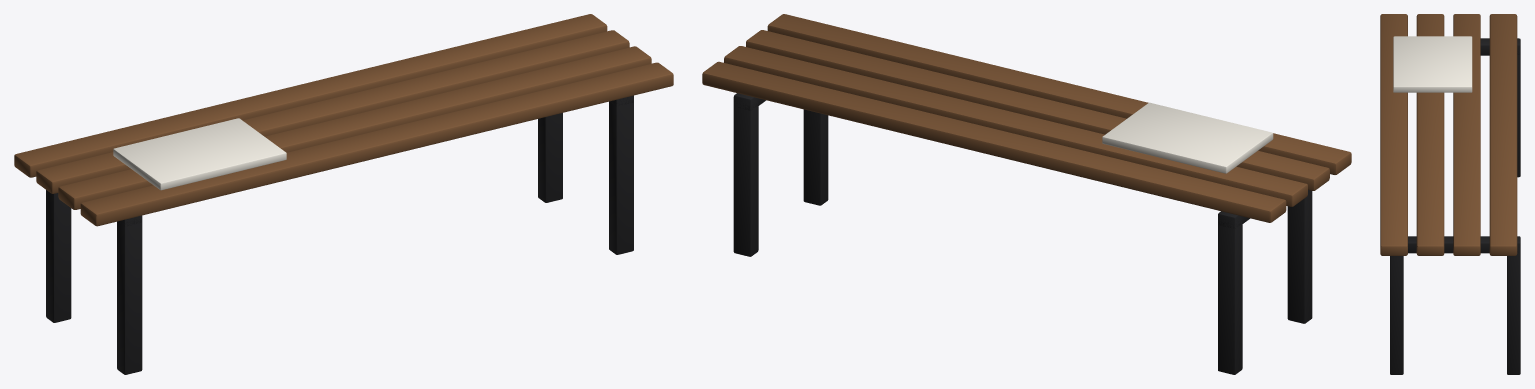
The model's file is mae_bench.glb.
The picture shows the model from 3 angles, left to right: view 1: azimuth 30°, elevation 25°; view 2: azimuth 150°, elevation 25°; view 3: azimuth 270°, elevation 25°; orthographic projection. The views are drawn at different scales.
Visible parts, largest first — view 1: mae_bench; view 2: mae_bench; view 3: mae_bench.
Part boxes in pixels (<box>): mae_bench: <box>14,14,673,374</box>; mae_bench: <box>702,14,1351,374</box>; mae_bench: <box>1380,14,1520,374</box>.
Bounding box in the file's own units: 1.6 × 0.48 × 0.4076.
